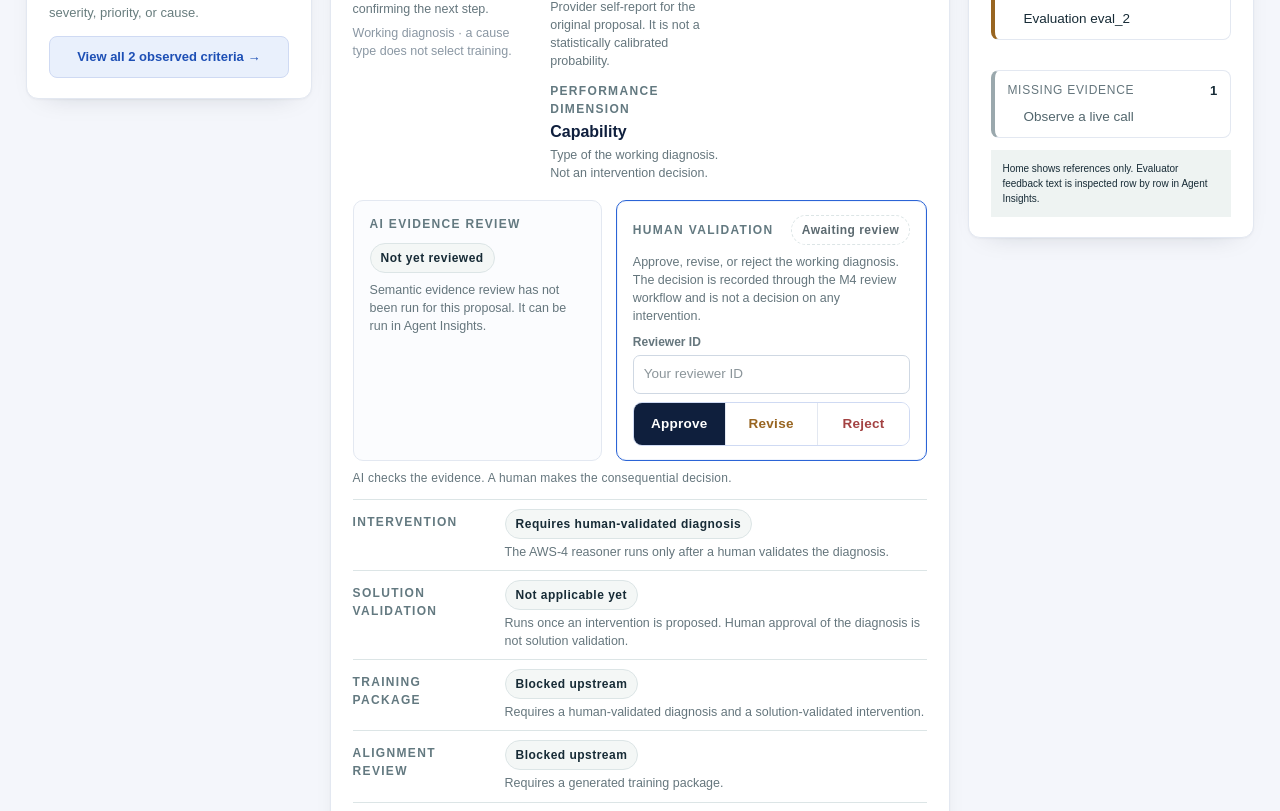
it: Home data states and M4 decisions against the backend › rejects through the existing M4 endpoint with the reviewer's rationale and shows downstream blocked (E)
(page scrolled)
Type "qa-3" into the field with placeholder "Your reviewer ID" at (772, 375), box [633, 355, 910, 394]
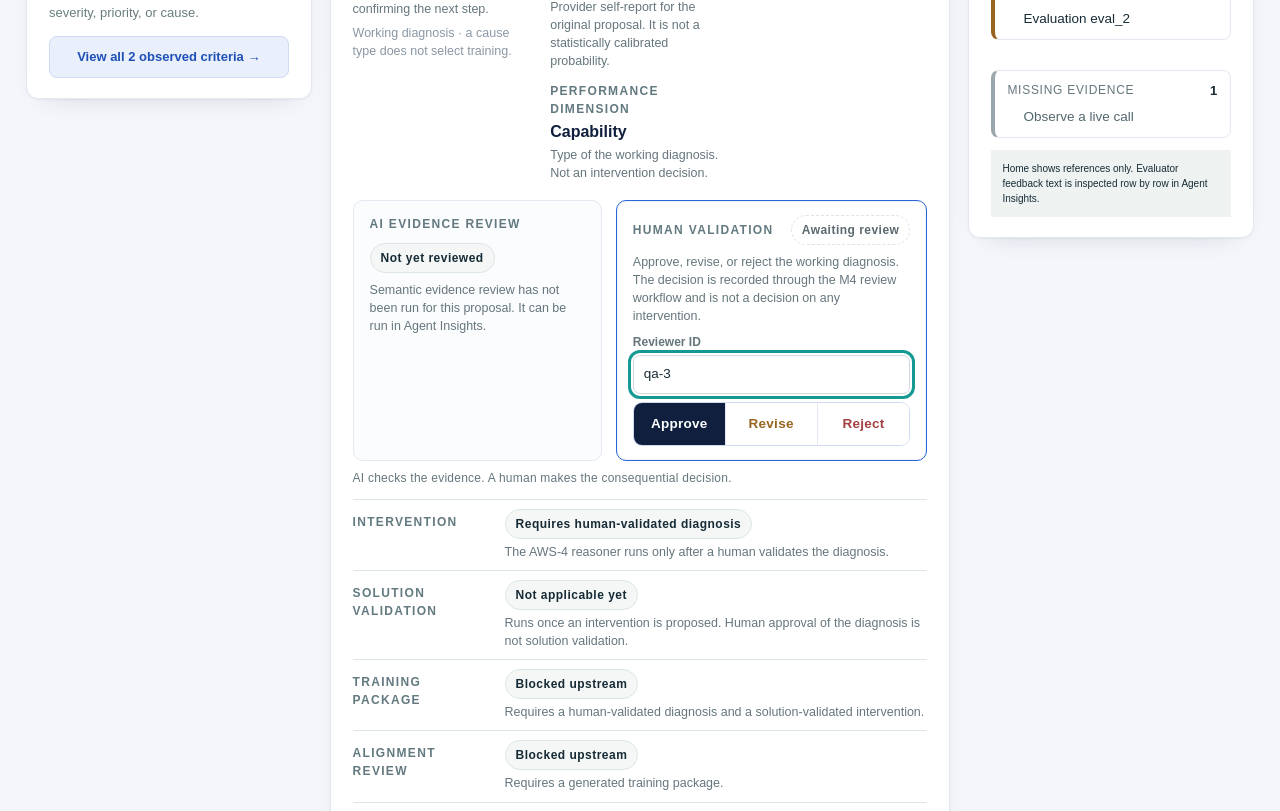
Click the button "Reject" at (863, 424), box [818, 403, 909, 445]
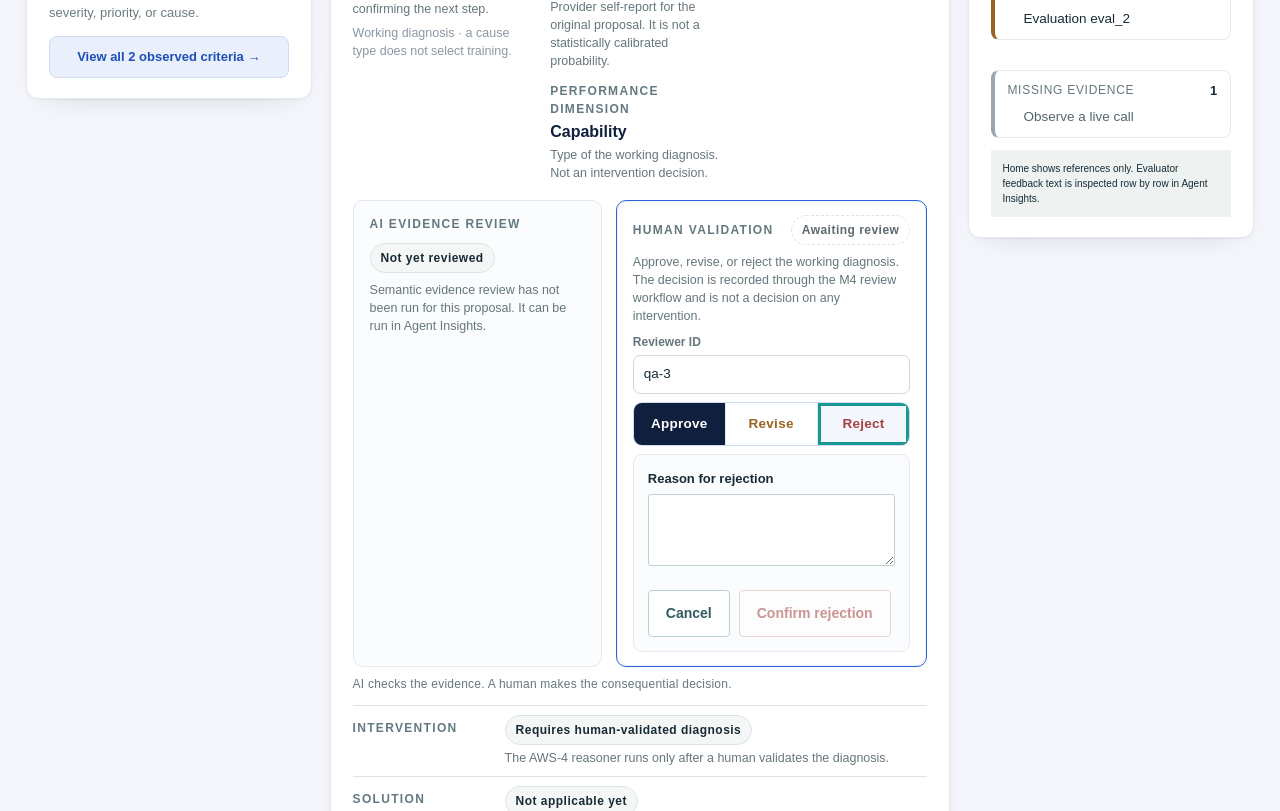
Type "Evidence too thin" into the text box labelled "Reason for rejection" at (772, 530), box [648, 494, 895, 566]
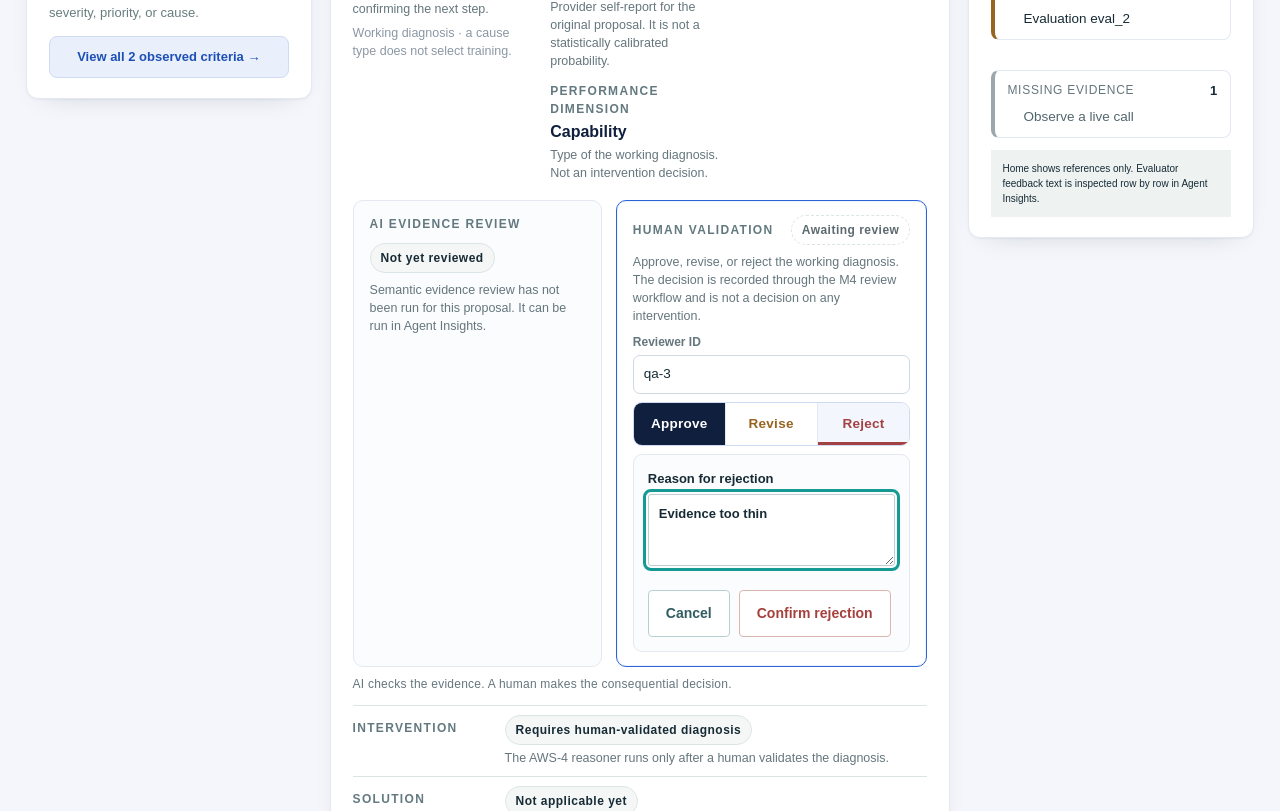
Click the button "Confirm rejection" at (815, 613), box [739, 590, 891, 637]
(page scrolled)
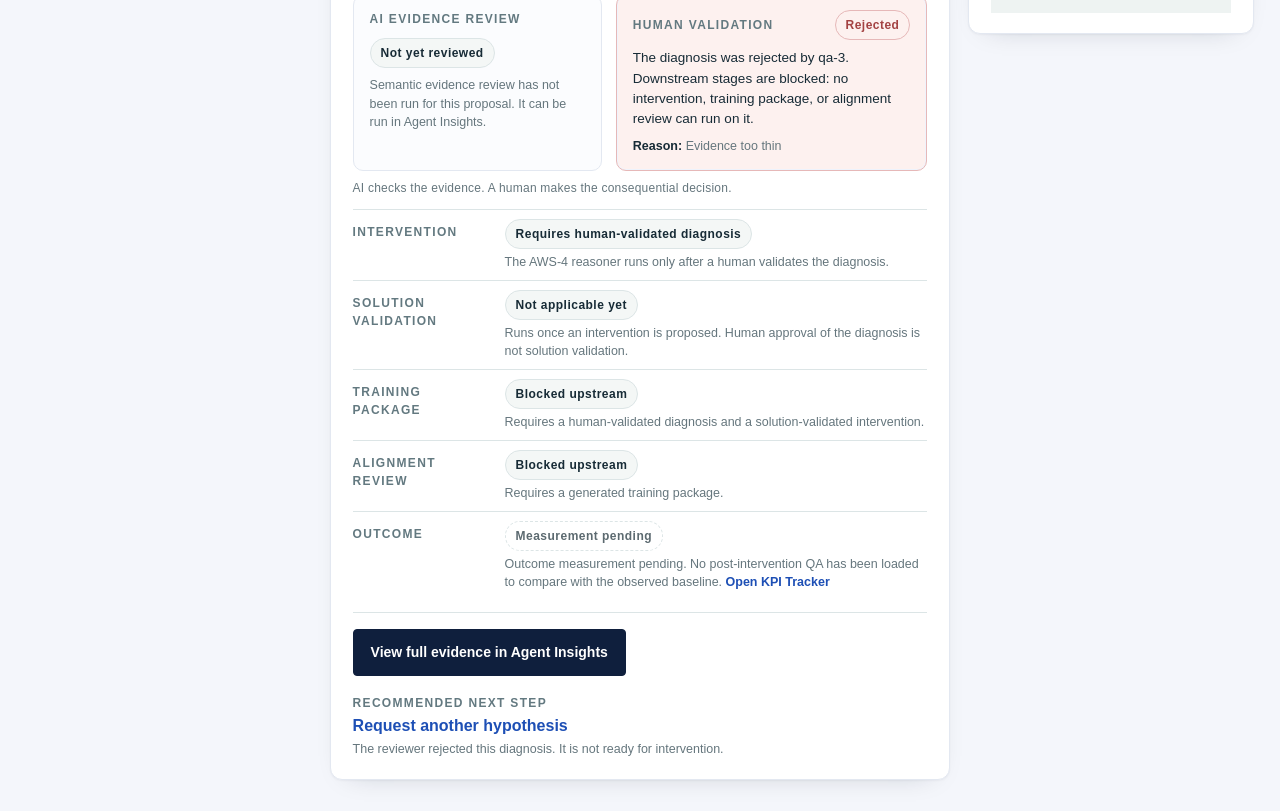
Result: the text "Downstream stages are blocked" is shown at [633, 50, 891, 126]
Result: the button "Human validation decision" is gone
